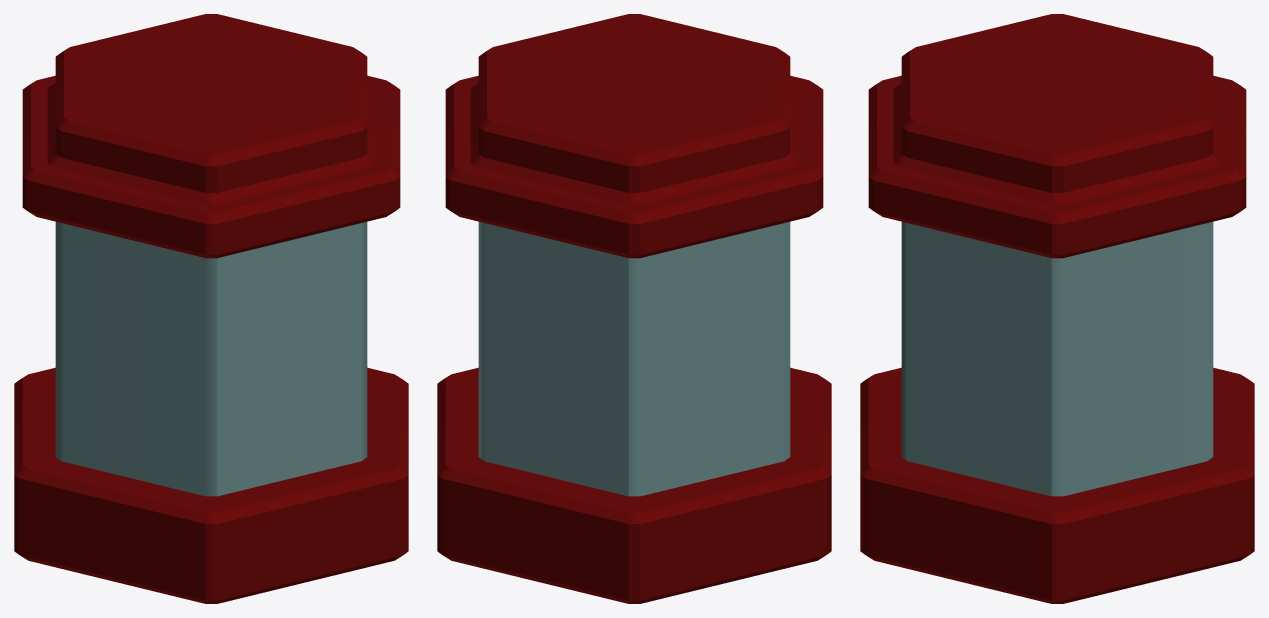
Rendered from FuelTank.fbx.
3 views of the same model, side by side, from view 1: azimuth 30°, elevation 25°; view 2: azimuth 150°, elevation 25°; view 3: azimuth 270°, elevation 25° (orthographic).
Parts seen in each view (by area): view 1: pCylinder1; view 2: pCylinder1; view 3: pCylinder1.
Boxes of the visible parts, x1=… form: pCylinder1: x1=14, y1=14, x2=408, y2=603; pCylinder1: x1=437, y1=14, x2=831, y2=603; pCylinder1: x1=860, y1=14, x2=1254, y2=603.
Bounding box in the file's own units: 118 × 125 × 104.
